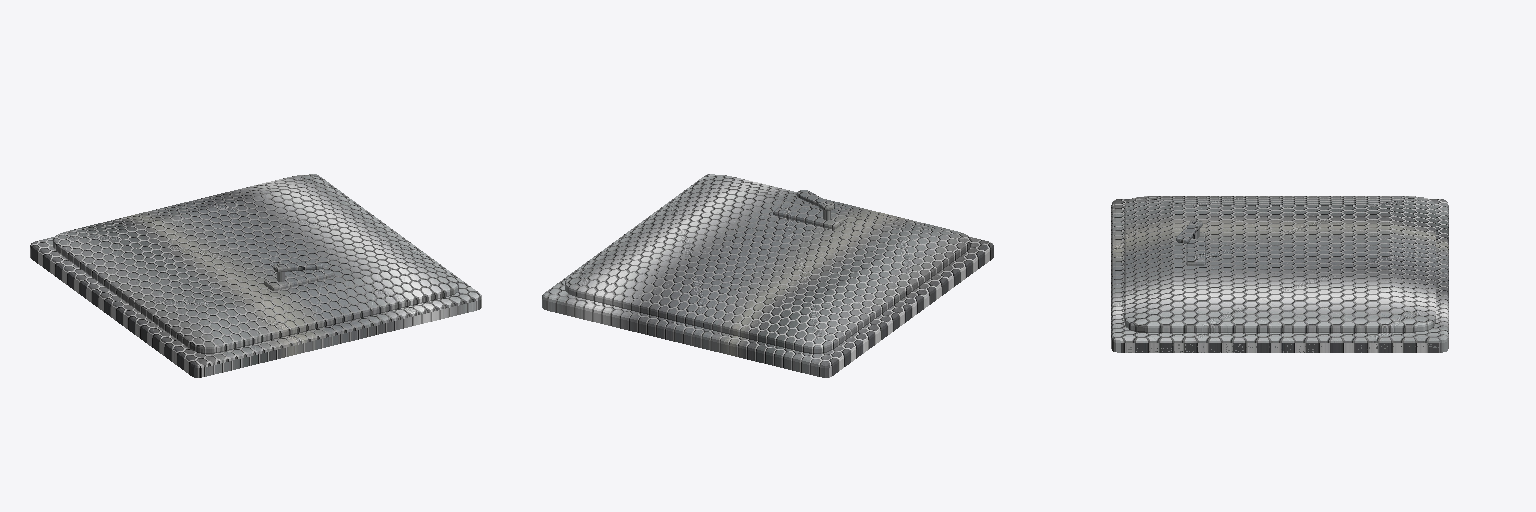
3 renders of one model, left to right at view 1: azimuth 30°, elevation 25°; view 2: azimuth 150°, elevation 25°; view 3: azimuth 270°, elevation 25°, orthographic.
Visible parts, largest first — view 1: whole; view 2: whole; view 3: whole.
Part boxes in pixels (bbox=[...]): whole: bbox=[30, 174, 481, 377]; whole: bbox=[542, 174, 993, 377]; whole: bbox=[1111, 196, 1448, 352].
Bounding box in the file's own units: 253 × 43.91 × 256.
1 materials, 1 textured.